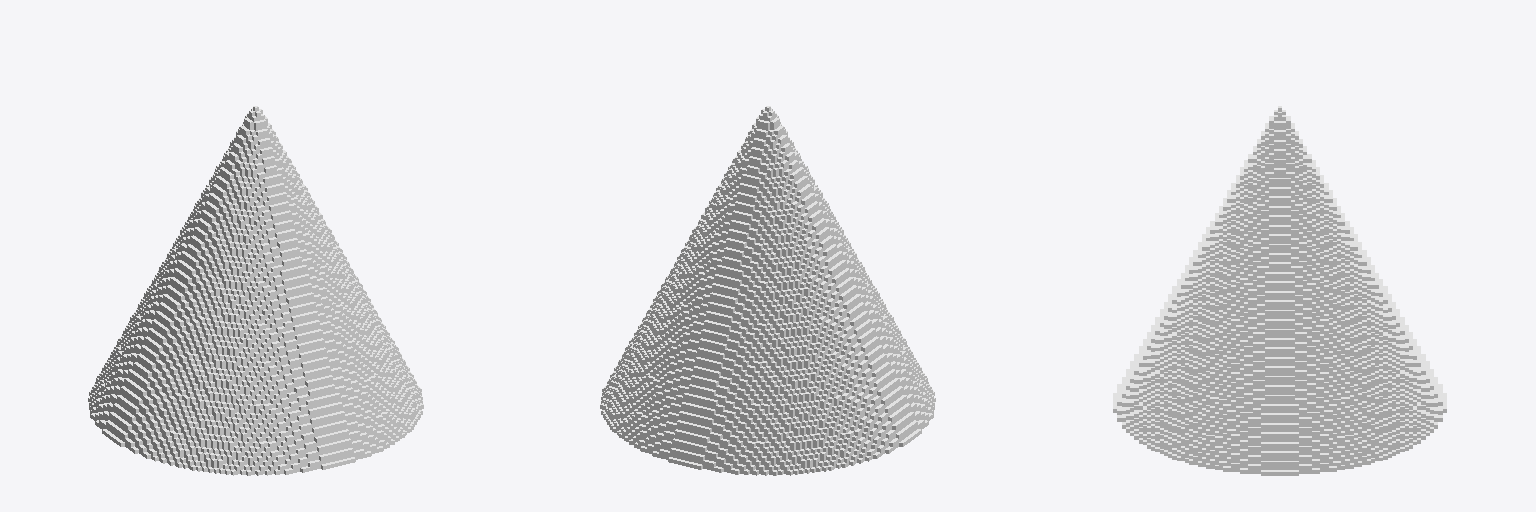
File: Gizmo_Cone.obj
3 renders of one model, left to right at view 1: azimuth 30°, elevation 25°; view 2: azimuth 150°, elevation 25°; view 3: azimuth 270°, elevation 25°, orthographic.
Parts seen in each view (by area): view 1: object 1; view 2: object 1; view 3: object 1.
Part boxes in pixels (left/top/right/bottom): object 1: left=88, top=106, right=423, bottom=475; object 1: left=600, top=106, right=935, bottom=475; object 1: left=1113, top=106, right=1446, bottom=475.
Bounding box in the file's own units: 7.9 × 7.8 × 7.9.